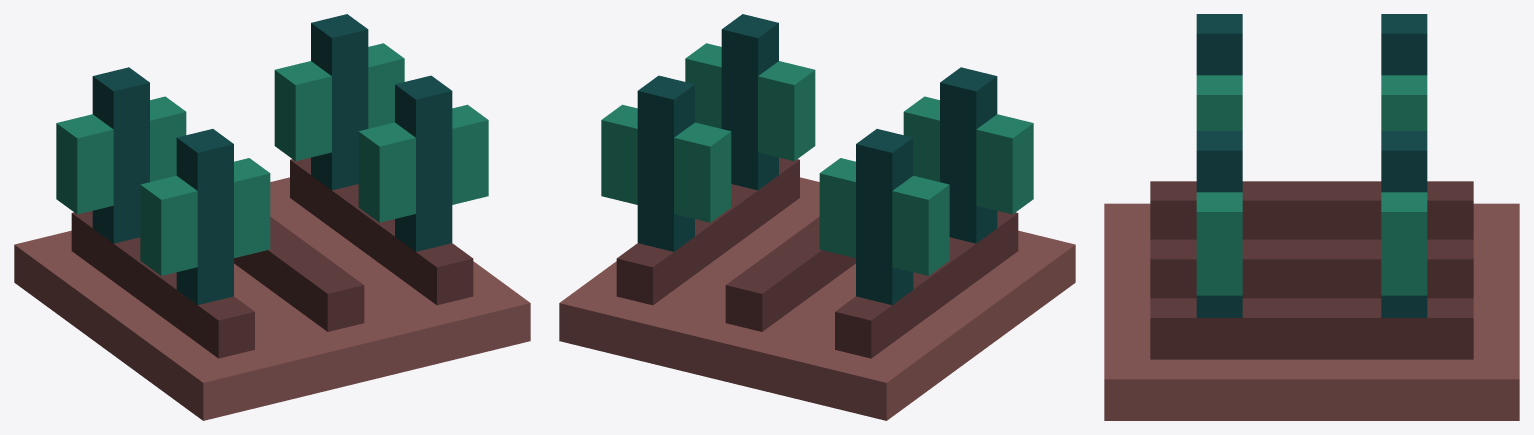
Rendered from Red Pepper 2.obj.
The picture shows the model from 3 angles, left to right: view 1: azimuth 30°, elevation 25°; view 2: azimuth 150°, elevation 25°; view 3: azimuth 270°, elevation 25°; orthographic projection. The views are drawn at different scales.
Size of the model in its own units: 0.9 by 0.6 by 0.9.
1 material, 1 textured.
